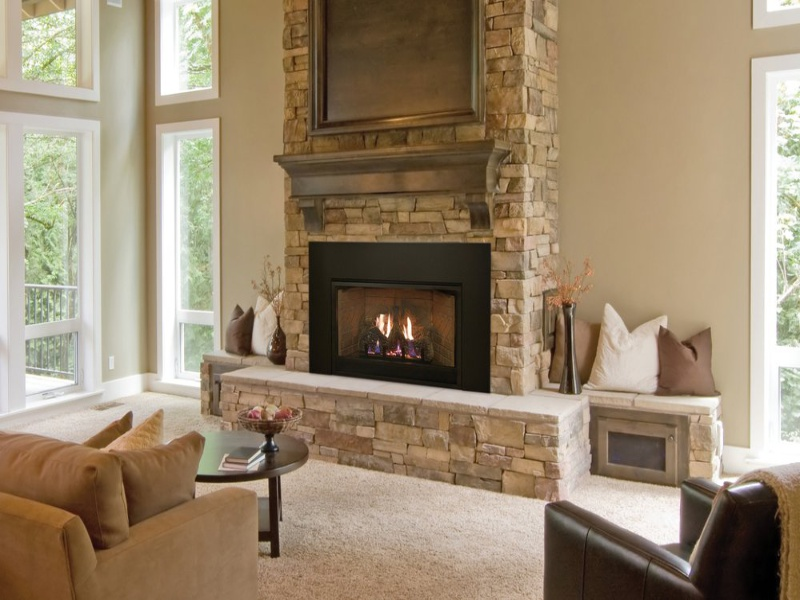fire: (377, 312, 416, 344)
